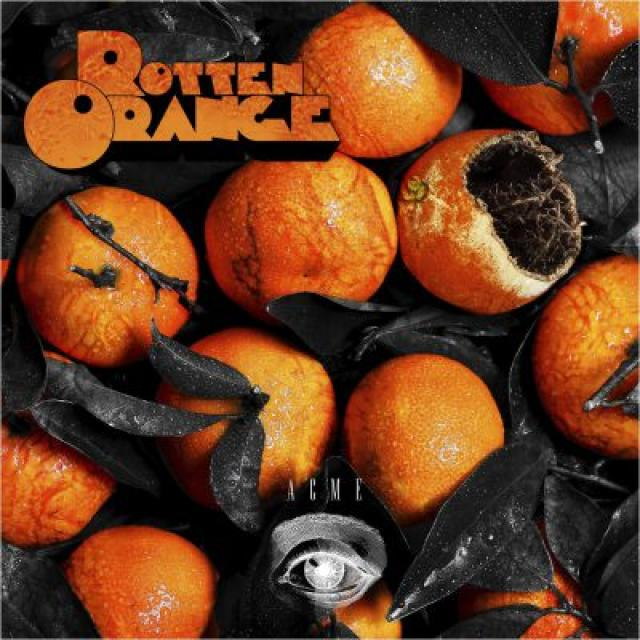apple: (21, 186, 200, 363), (206, 162, 398, 314), (179, 333, 336, 494), (352, 356, 507, 514), (325, 6, 470, 160), (502, 2, 640, 139), (69, 526, 216, 640), (557, 260, 640, 458), (2, 429, 112, 544)
